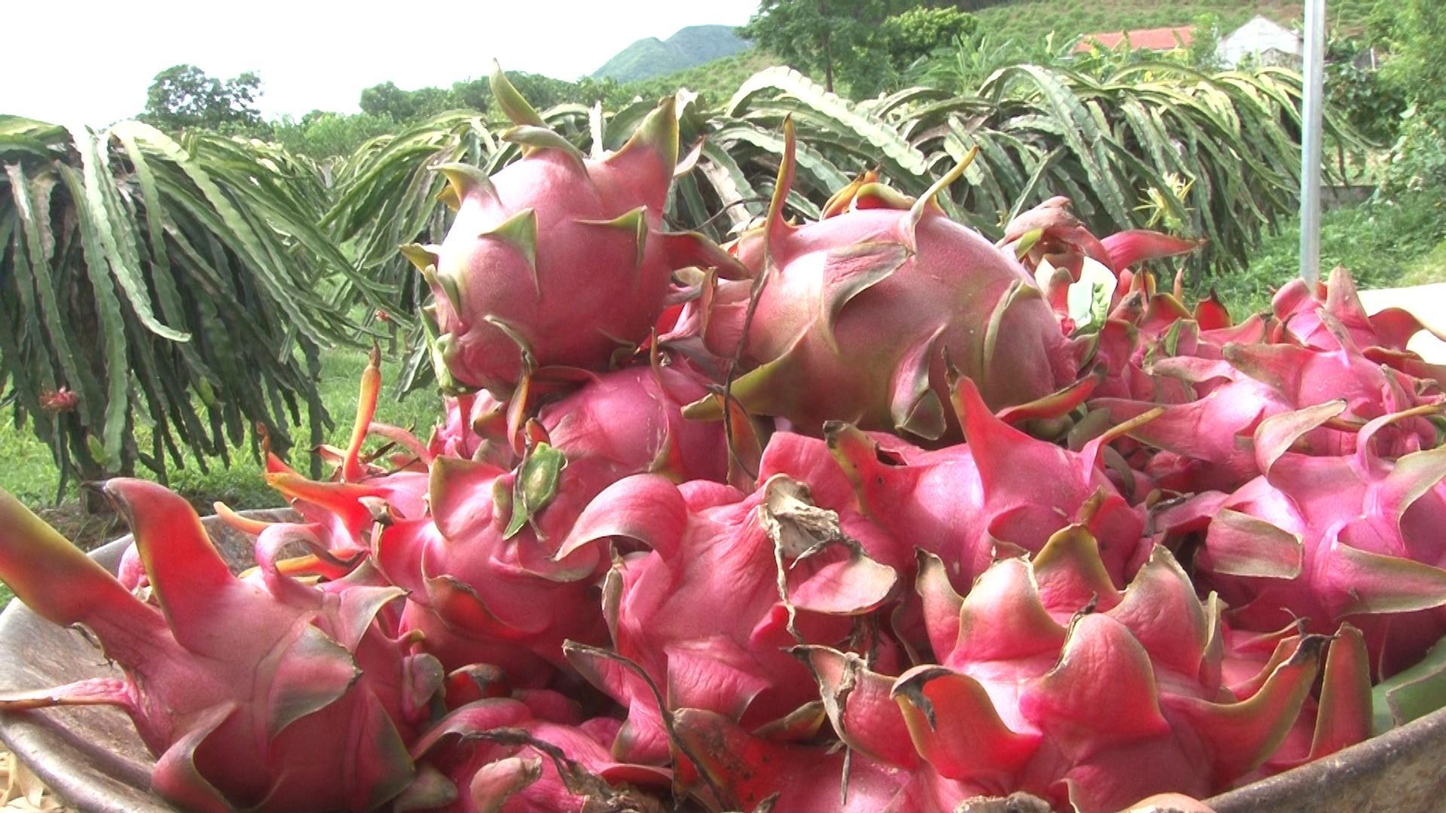dragon-fruit: (667, 203, 1090, 448), (874, 580, 1265, 811), (602, 469, 879, 758), (121, 581, 435, 813), (427, 151, 674, 401), (1197, 448, 1446, 678), (401, 450, 616, 700), (849, 433, 1149, 608), (1192, 348, 1446, 489), (516, 359, 764, 493), (420, 708, 667, 811), (309, 465, 431, 583), (1269, 297, 1427, 363)
